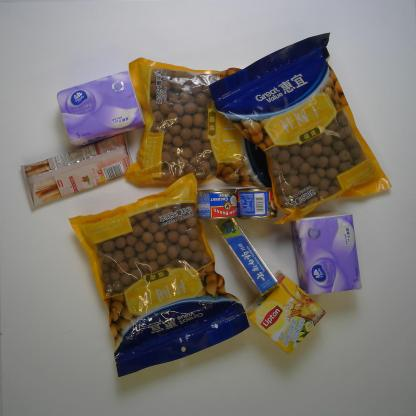Canned Food: (234, 183, 280, 222), (193, 186, 240, 221)
Dessert: (18, 127, 136, 216)
Dried Food: (62, 170, 252, 380), (207, 31, 394, 226), (121, 55, 274, 189)
Instant Drink: (242, 267, 329, 357)
Personal Hygiene: (213, 215, 282, 300)
Tissue: (52, 68, 148, 148), (288, 208, 364, 297)
